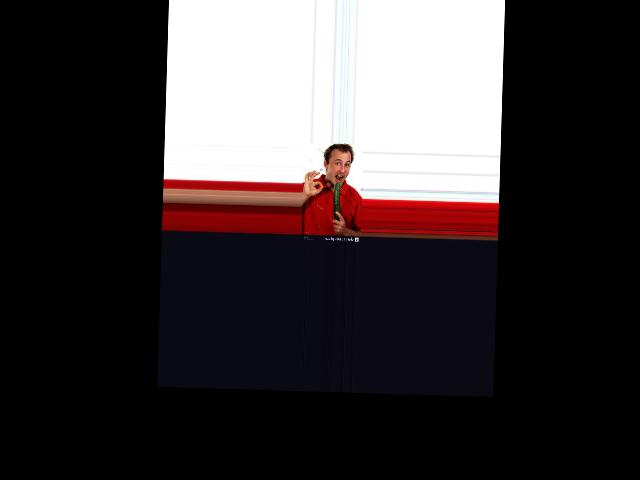cucumber: (333, 182, 340, 220)
